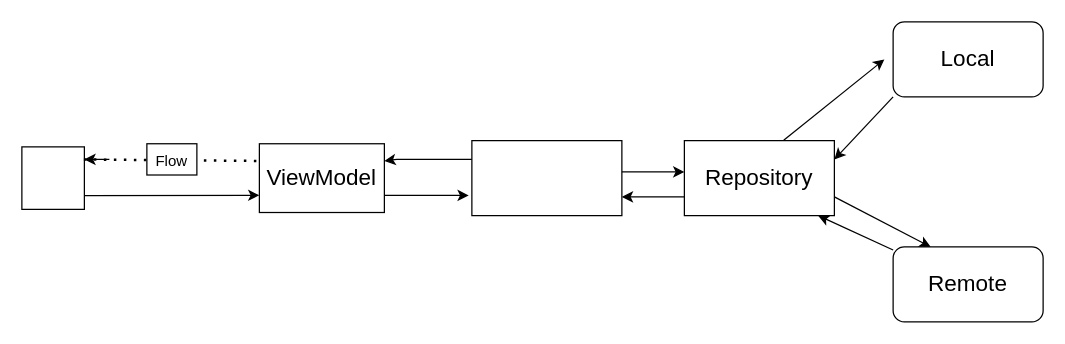
This 1065x344 diagram has some shape labels left out. The shapes that lost their labels are listed below. From the top down, each one's centre as x and y in pixels, then its label:
(x=52, y=177): UI
(x=546, y=177): UseCase
